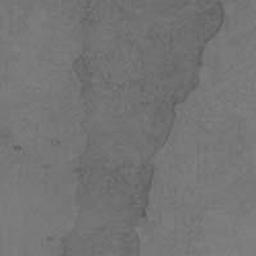Water spot: (59, 0, 225, 256), (50, 138, 60, 150), (13, 145, 22, 151)
